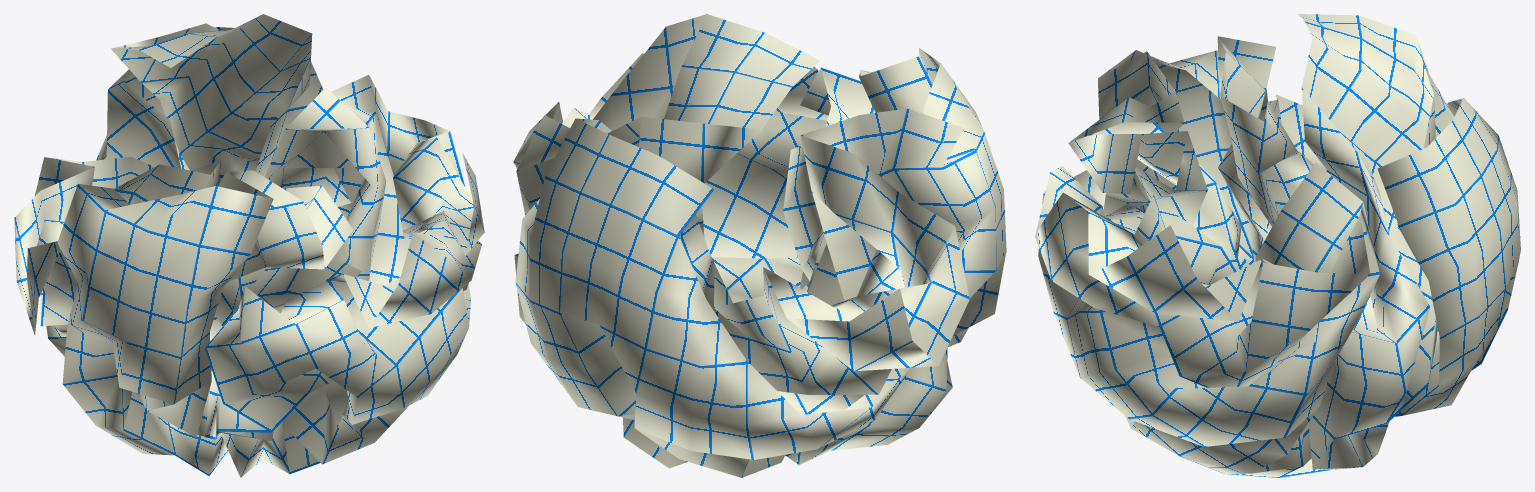
The model's file is ball_paper.FBX.
The picture shows the model from 3 angles, left to right: view 1: azimuth 30°, elevation 25°; view 2: azimuth 150°, elevation 25°; view 3: azimuth 270°, elevation 25°; orthographic projection. The views are drawn at different scales.
Parts seen in each view (by area): view 1: ball_paper; view 2: ball_paper; view 3: ball_paper.
Part boxes in pixels (box(x1,y1,x2,y2)): ball_paper: box(14, 14, 484, 477); ball_paper: box(513, 14, 1006, 477); ball_paper: box(1035, 14, 1520, 477).
Size of the model in its own units: 5583 by 5423 by 5617.
